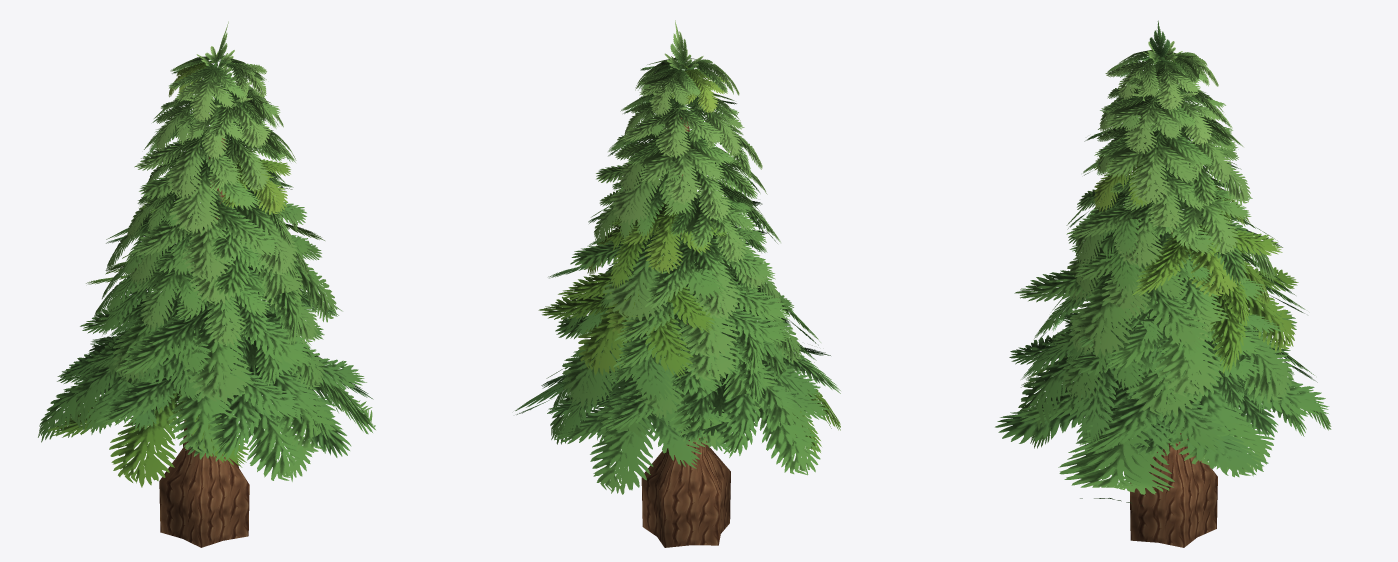
File: spruce_tall.gltf
3 renders of one model, left to right at view 1: azimuth 30°, elevation 25°; view 2: azimuth 150°, elevation 25°; view 3: azimuth 270°, elevation 25°, orthographic. The views are drawn at different scales.
Parts seen in each view (by area): view 1: spruce_tall_leaves_LOD0, spruce_tall_trunk_LOD0; view 2: spruce_tall_leaves_LOD0, spruce_tall_trunk_LOD0; view 3: spruce_tall_leaves_LOD0, spruce_tall_trunk_LOD0.
Part boxes in pixels (bbox=[...]): spruce_tall_leaves_LOD0: bbox=[38, 21, 375, 487]; spruce_tall_trunk_LOD0: bbox=[159, 135, 249, 547]; spruce_tall_leaves_LOD0: bbox=[515, 20, 840, 494]; spruce_tall_trunk_LOD0: bbox=[641, 118, 730, 547]; spruce_tall_leaves_LOD0: bbox=[995, 20, 1331, 505]; spruce_tall_trunk_LOD0: bbox=[1130, 148, 1217, 547].
Size of what is drawn, in the model's own units: 13.75 by 19.2 by 15.38.
2 materials, 2 textured.
